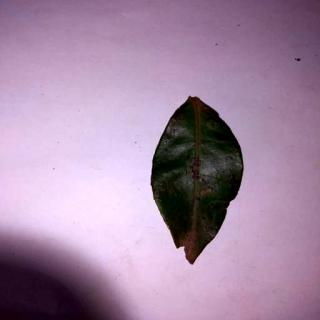Bird Eye Spot: (155, 96, 245, 264)
